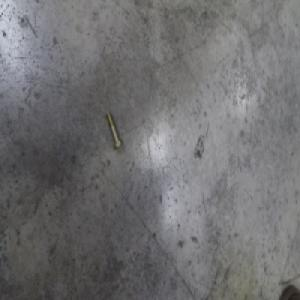Bolt: (104, 110, 122, 152)
